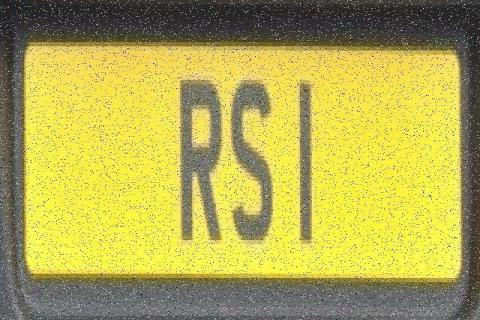LicensePlate: (12, 27, 474, 297)
